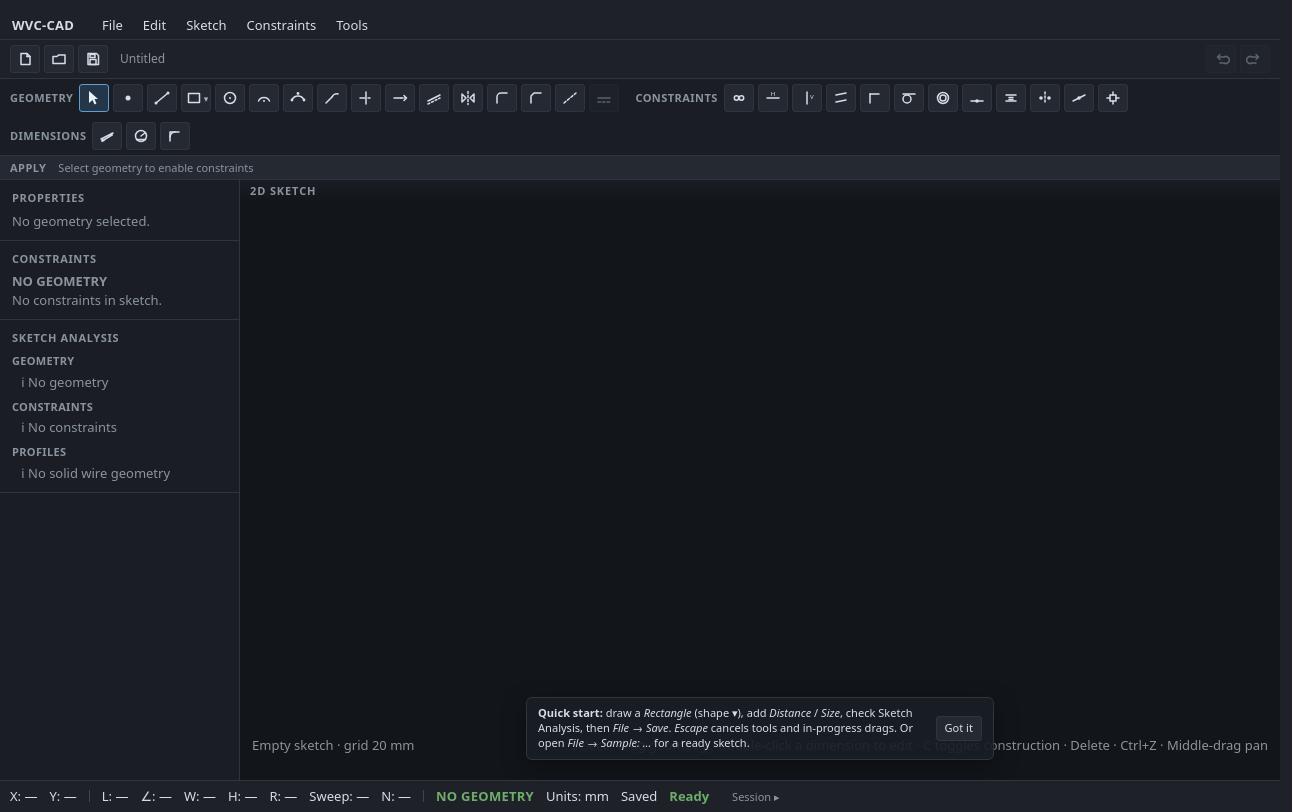
Test case: App rectangle tool › creates a rectangle with two corner clicks
The width and height of the screenshot is (1292, 812).
Click the button with test id "tool-shape-flyout": (196, 98) [181,84,211,112]
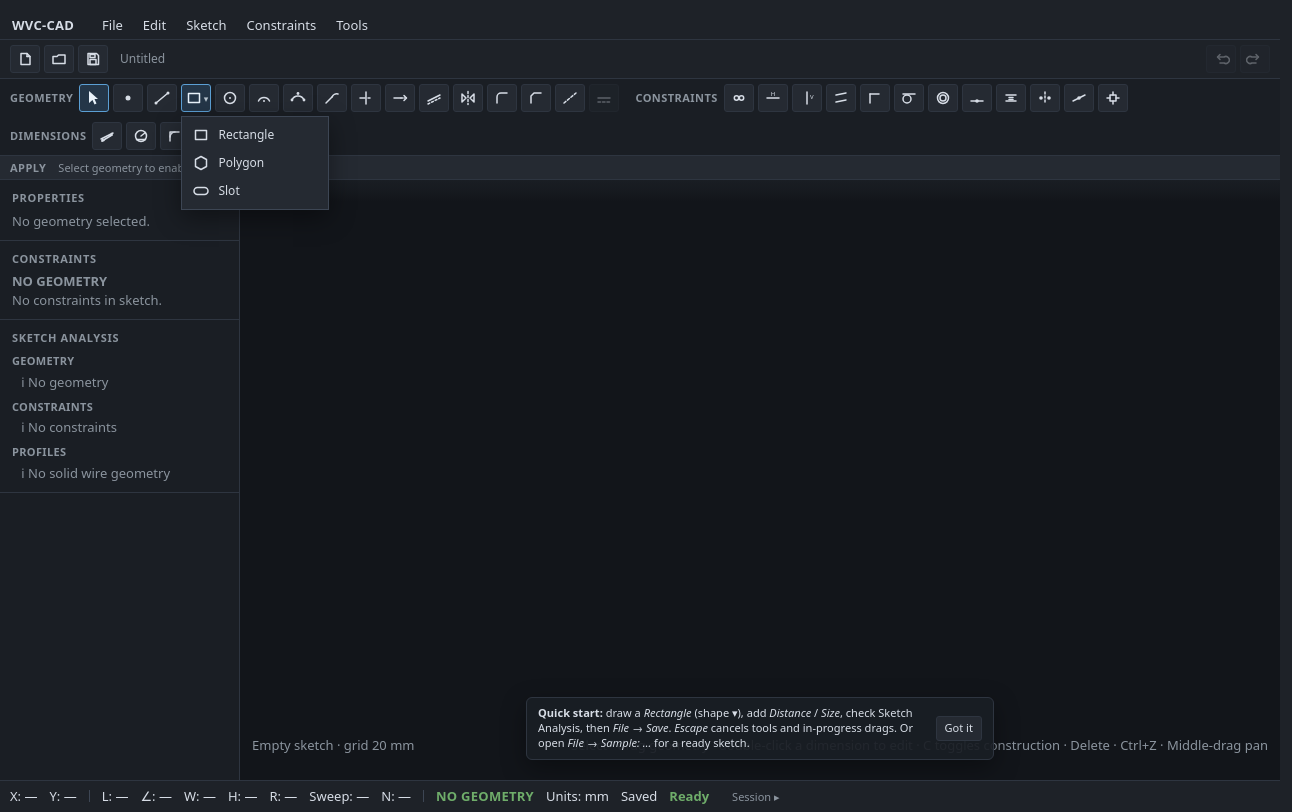
Click the menu item with test id "tool-rectangle": (255, 135) [182,121,328,149]
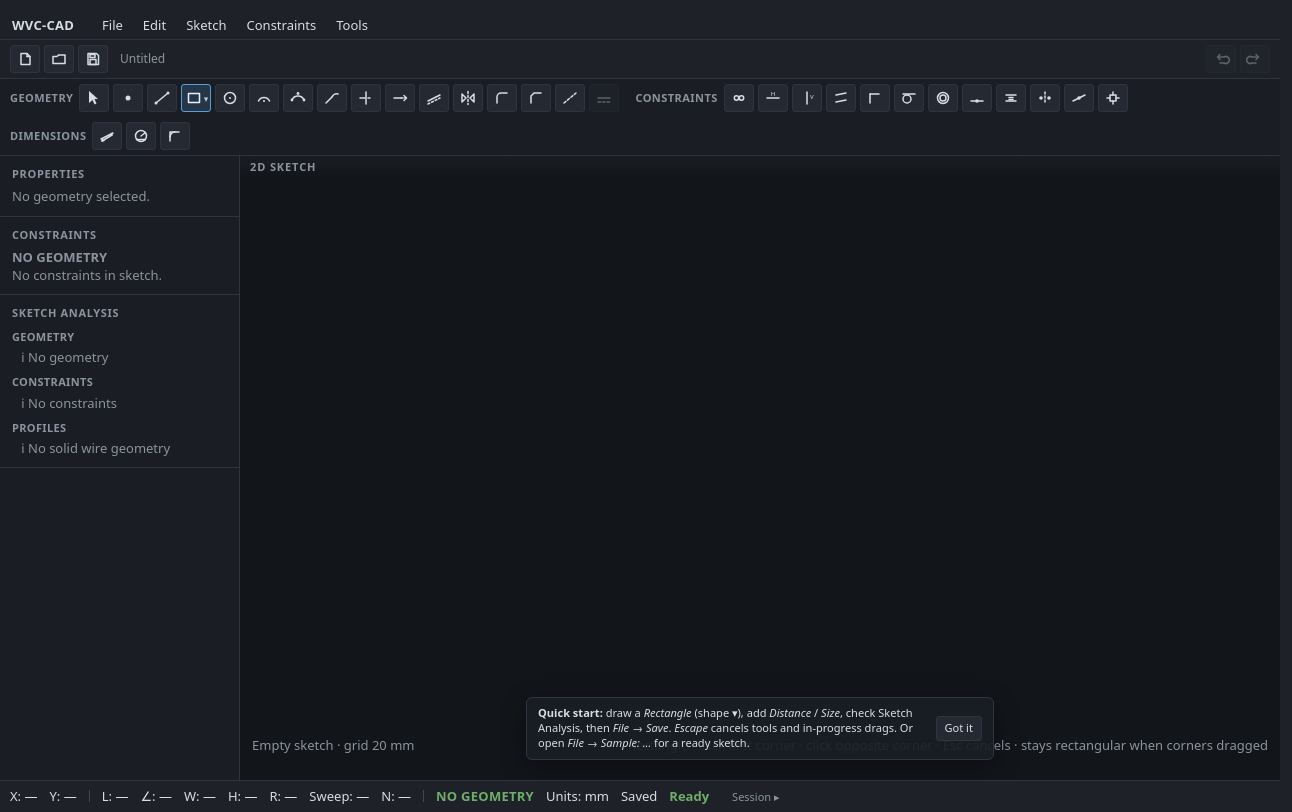
// Scale 2 → 20 mm grid. World (40,20) → screen (480, 260).
Click the button with test id "status-session-toggle": (756, 796) [725,786,787,807]
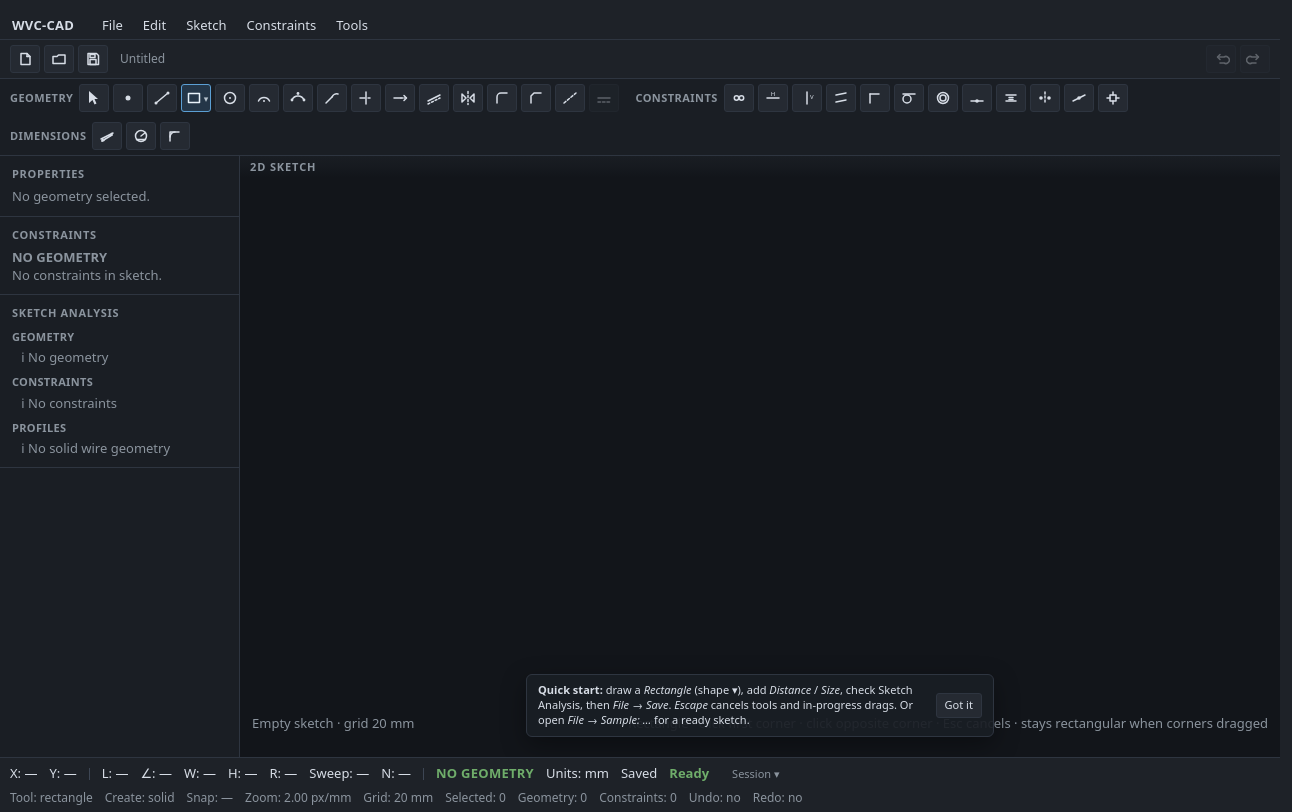
Check: the message shows "Tool: rectangle", box [0,757,1280,811]
Press the mouse on the drawing named "Sketch viewport": (760, 456) [240,156,1280,757]
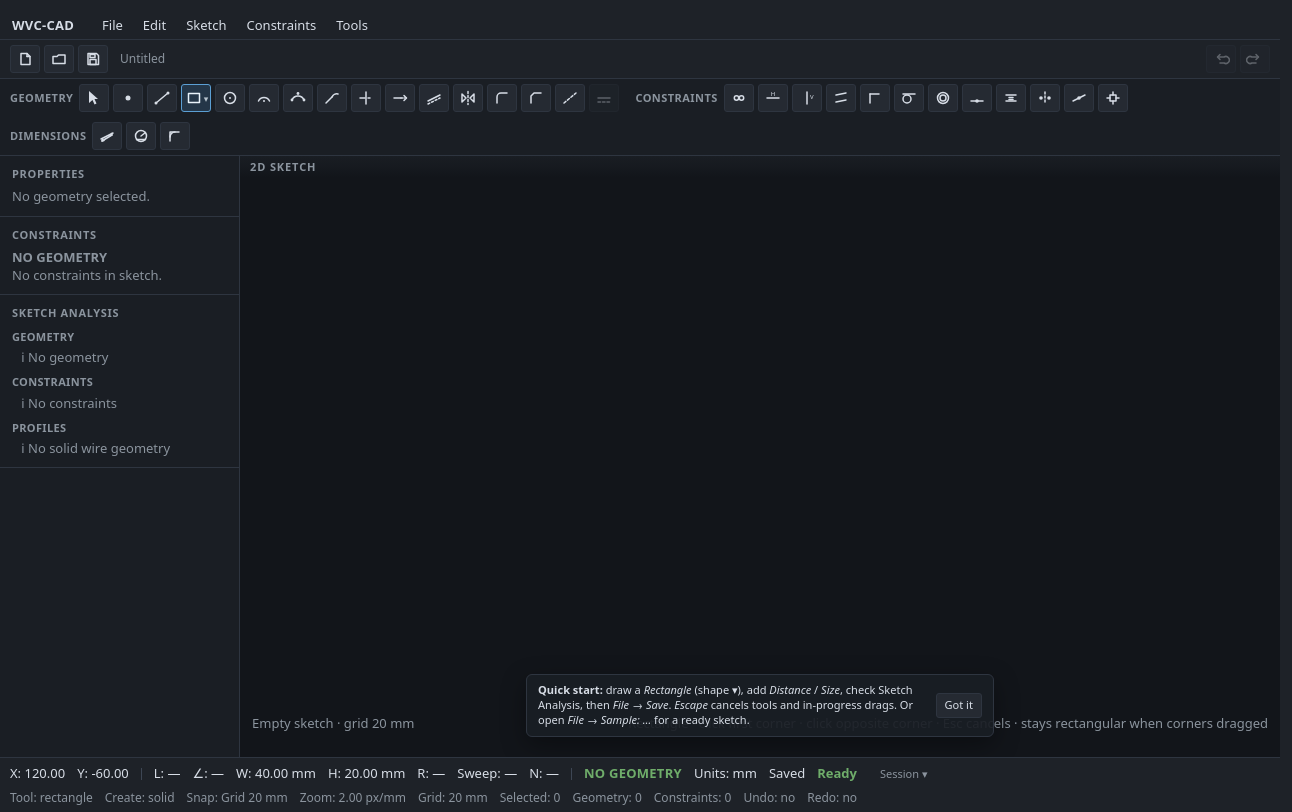
Check: the message shows "W: 40.00 mm", box [236,764,316,782]
Check: the message shows "H: 20.00 mm", box [328,764,405,782]
Press the mouse on the drawing named "Sketch viewport": (760, 456) [240,156,1280,757]
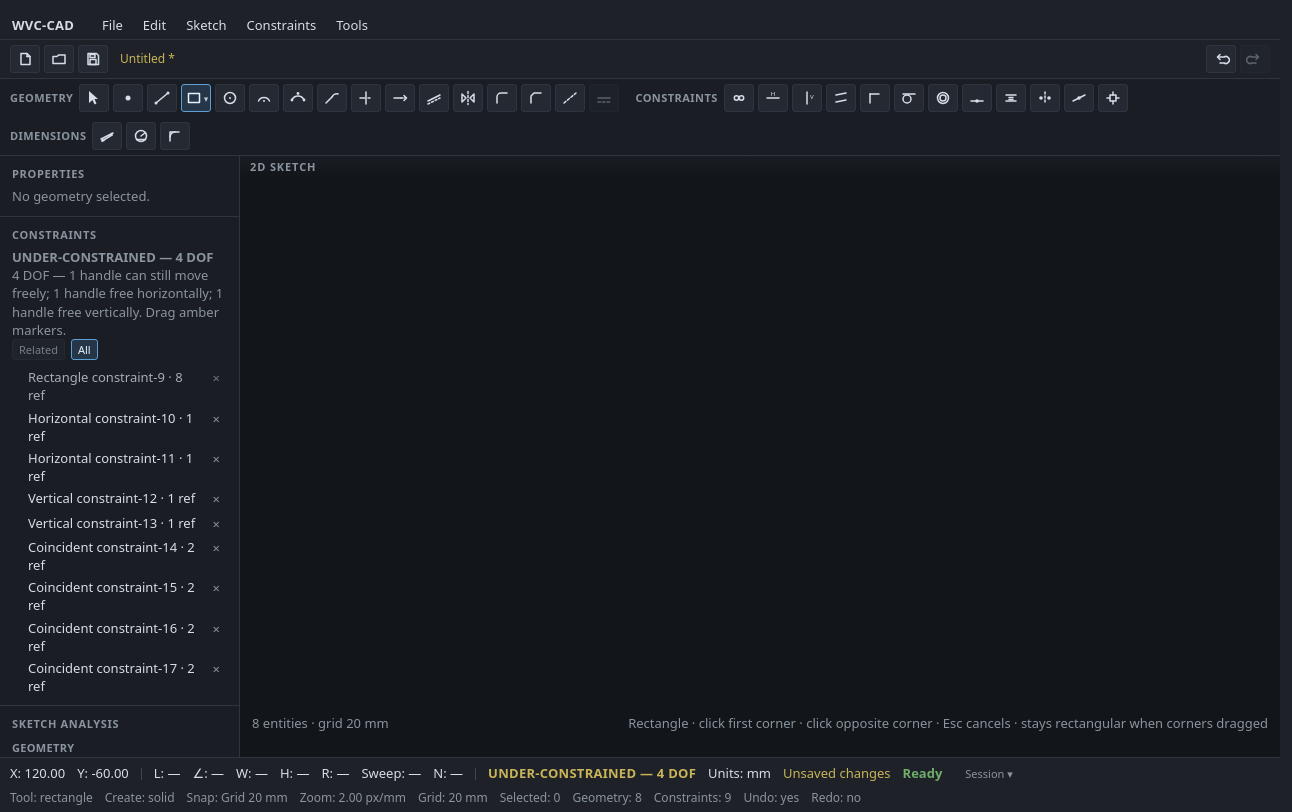
Check: the message shows "Geometry: 8", box [0,757,1280,811]
